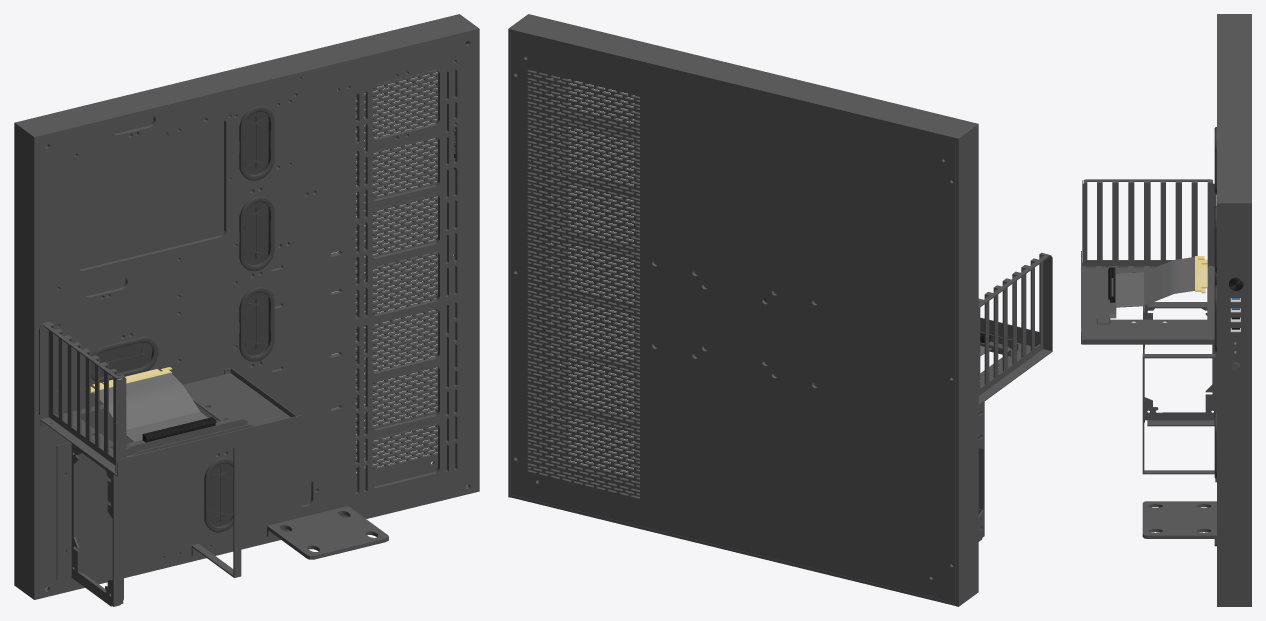
The model's file is pccase.glb.
The picture shows the model from 3 angles, left to right: view 1: azimuth 30°, elevation 25°; view 2: azimuth 150°, elevation 25°; view 3: azimuth 270°, elevation 25°; orthographic projection. The views are drawn at different scales.
Parts seen in each view (by area): view 1: pCube884, BackPanel, pCube889, GPU_Bracket1, pCube890, pCube1235, PSU_Bracket1, pCube1218, nurbsToPoly2, pCylinder98, pCylinder99, pCylinder97 (+5 smaller); view 2: BackPanel, pCube889, pCube890, pCube884, pCube1235, GPU_Bracket1, pCube891, pCube896, PSU_Bracket1; view 3: pCube896, pCube890, pCube1235, GPU_Bracket1, pCube1218, nurbsToPoly2, pCube884, PSU_Bracket1, PSU_Bracket2, pCube1236, pCube1238, pCube1237.
Part boxes in pixels (x1,y1,x2,y2): pCube884: (32,27,479,599); BackPanel: (45,60,455,513); pCube889: (14,122,34,598); GPU_Bracket1: (40,367,307,476); pCube890: (17,14,474,134); pCube1235: (39,322,126,473); PSU_Bracket1: (56,442,123,606); pCube1218: (267,506,388,559); nurbsToPoly2: (92,373,207,441); pCylinder98: (239,105,274,180); pCylinder99: (239,286,274,361); pCylinder97: (239,196,274,271); BackPanel: (511,32,955,602); pCube889: (956,125,976,606); pCube890: (510,16,973,140); pCube884: (526,14,978,593); pCube1235: (978,252,1052,395); GPU_Bracket1: (978,317,1052,405); pCube891: (510,495,955,605); pCube896: (508,15,528,497); PSU_Bracket1: (978,402,984,541); pCube896: (1220,202,1251,606); pCube890: (1220,15,1251,202); pCube1235: (1082,179,1216,265); GPU_Bracket1: (1081,251,1214,349); pCube1218: (1142,501,1216,546); nurbsToPoly2: (1116,257,1194,307); pCube884: (1217,14,1220,606); PSU_Bracket1: (1143,302,1216,426); PSU_Bracket2: (1142,352,1216,482); pCube1236: (1096,266,1116,324); pCube1238: (1195,256,1207,293); pCube1237: (1108,267,1115,302).
Bounding box in the file's own units: 4.26 × 4.23 × 1.62.
Materials: 11 (2 with a texture image).
